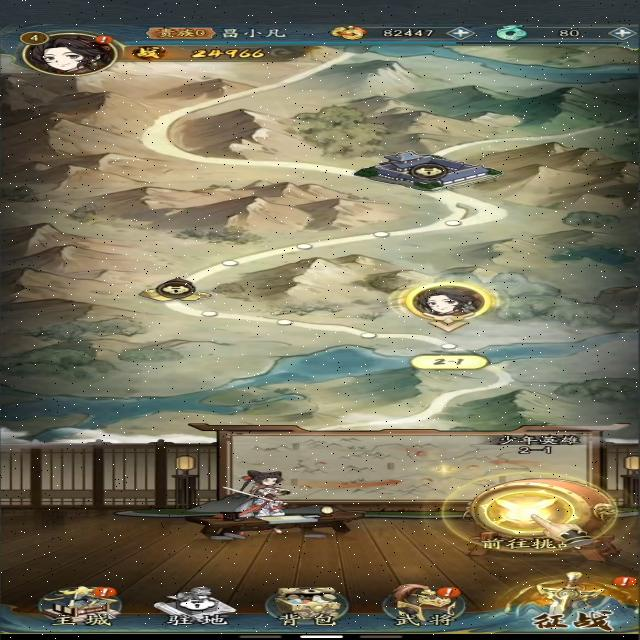hint-guide: (435, 468, 638, 557)
hint-reddot: (430, 583, 463, 600), (88, 584, 119, 599), (608, 574, 636, 589), (89, 33, 117, 45)
navigation-bag: (259, 582, 360, 631)
navigation-fight: (502, 570, 633, 634)
navigation-hero: (370, 580, 477, 628)
navigation-main: (29, 583, 131, 629)
navigation-role: (15, 27, 138, 81)
navigation-station-off: (152, 583, 242, 629)
operation-challenge: (452, 478, 614, 551)
